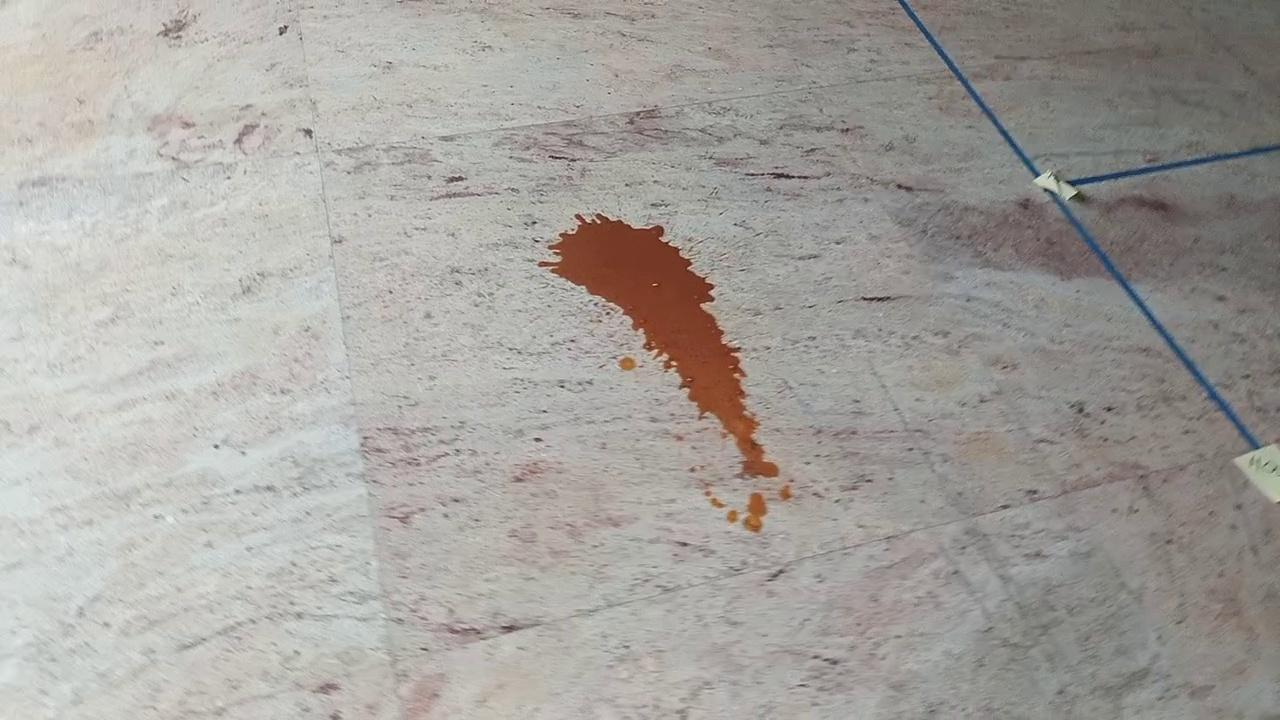dirty_floor: (539, 214, 795, 535)
